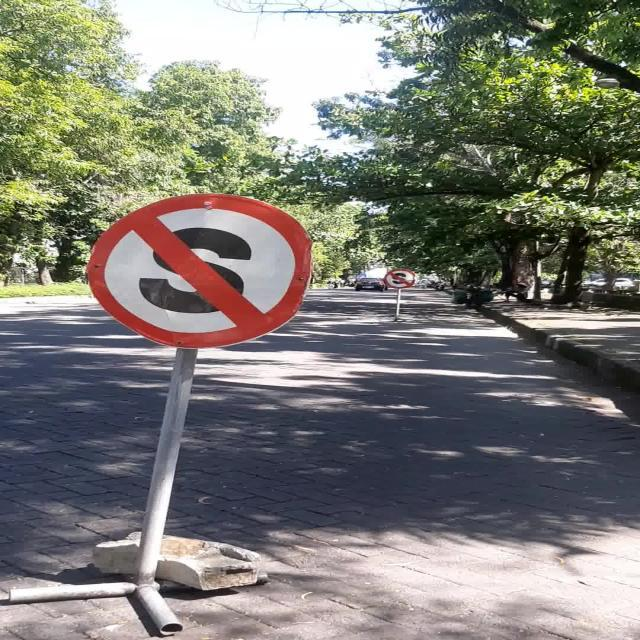Dilarang Berhenti: (88, 194, 312, 348)
